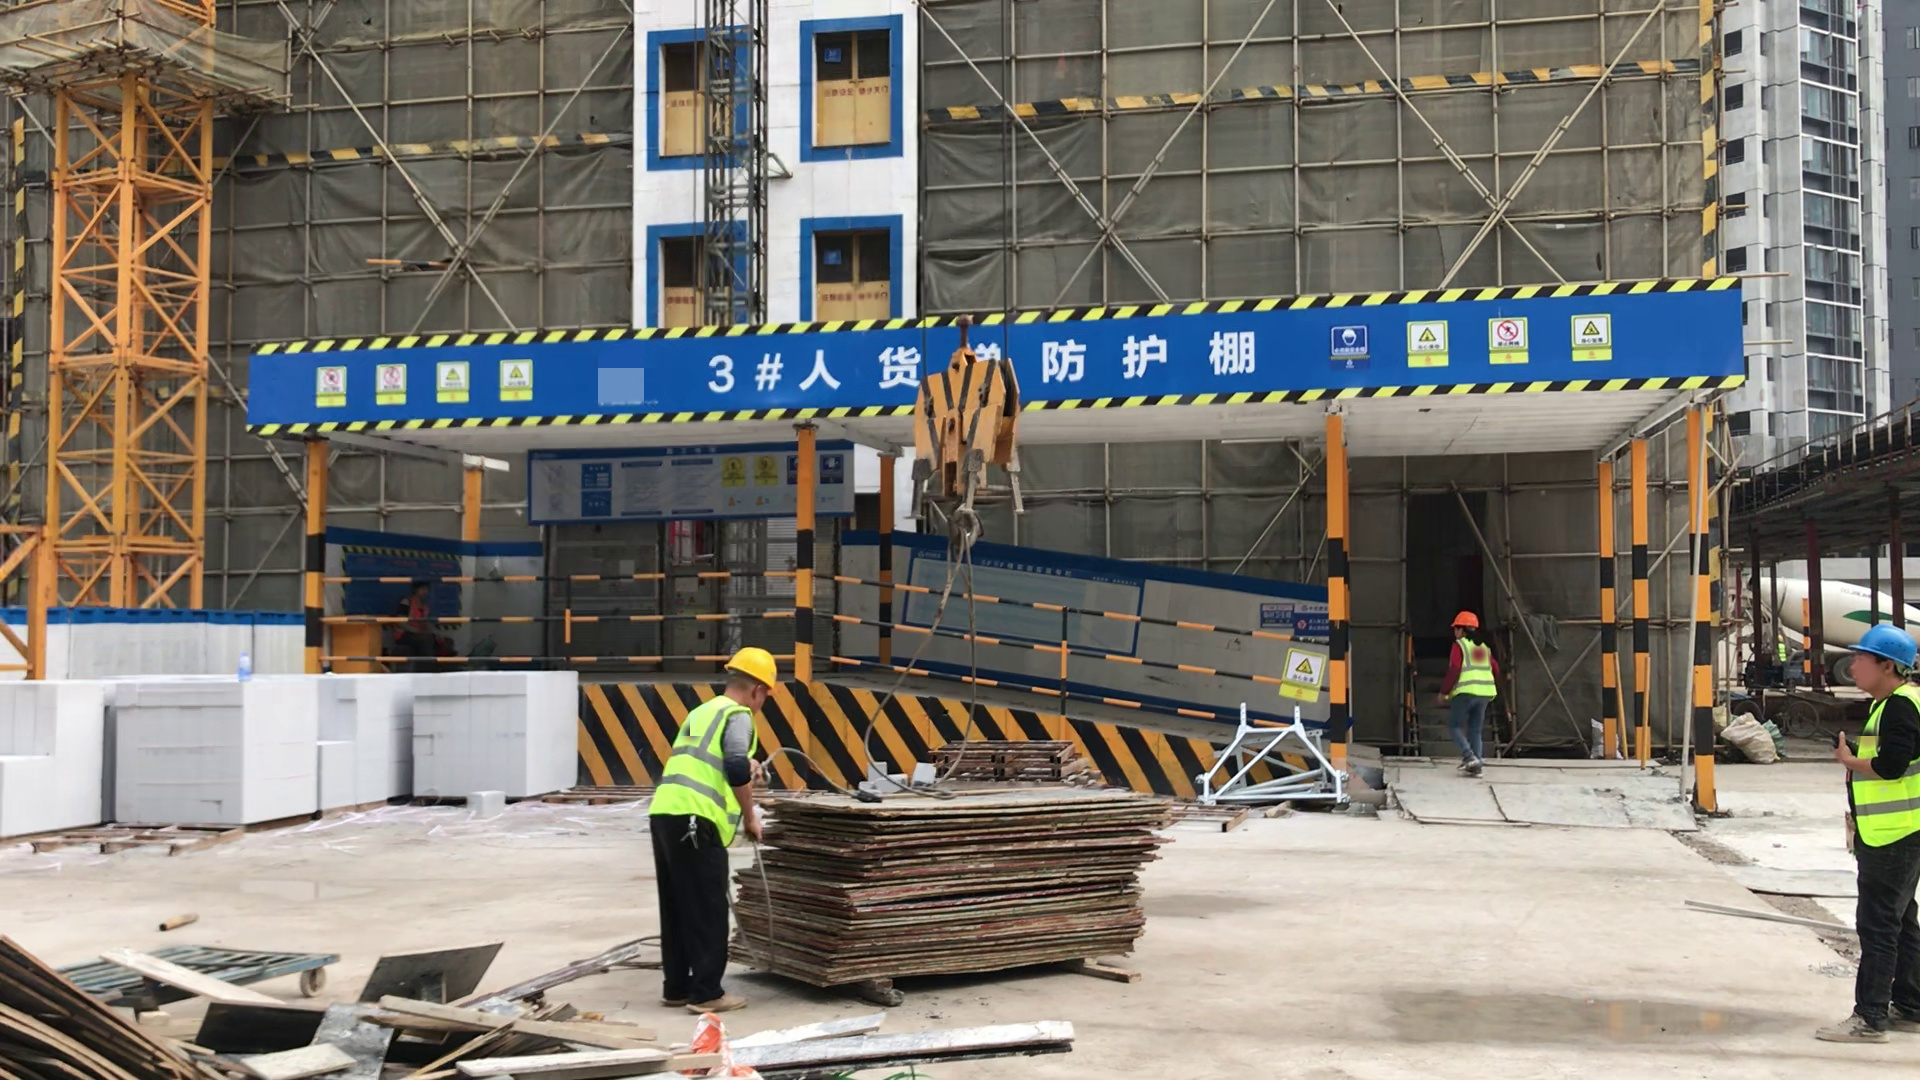board: (737, 790, 1172, 991)
brick: (3, 664, 576, 843)
helmet: (1846, 626, 1913, 668), (723, 647, 774, 691), (1451, 609, 1478, 629)
hook: (909, 350, 1026, 547)
person: (652, 646, 771, 1016), (1822, 623, 1920, 1047), (1436, 606, 1506, 779)
slogan: (1313, 312, 1621, 375), (307, 356, 546, 417), (719, 450, 849, 512), (1255, 598, 1338, 641), (1278, 646, 1325, 699)
vest: (653, 694, 748, 845), (1850, 679, 1920, 846), (1450, 638, 1498, 703)
